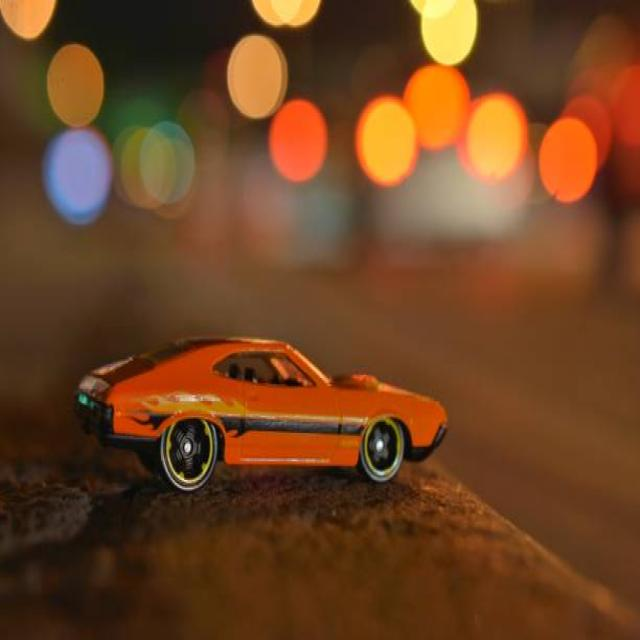Car: (73, 334, 449, 493)
